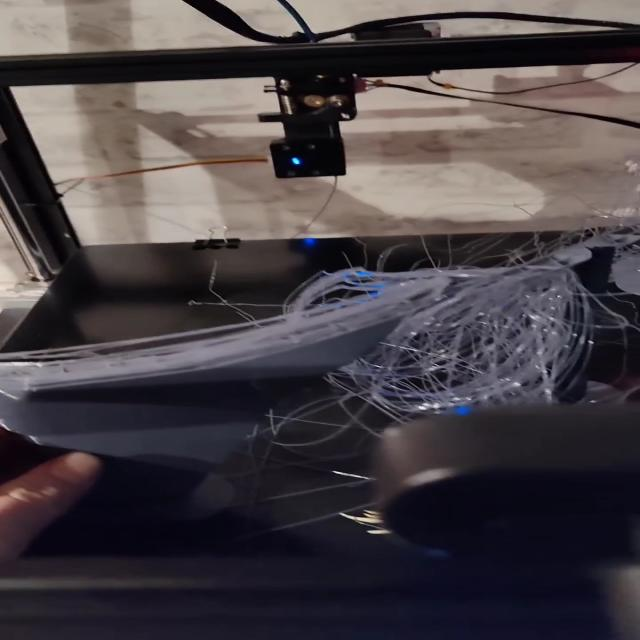spaghetti: (278, 255, 613, 418)
